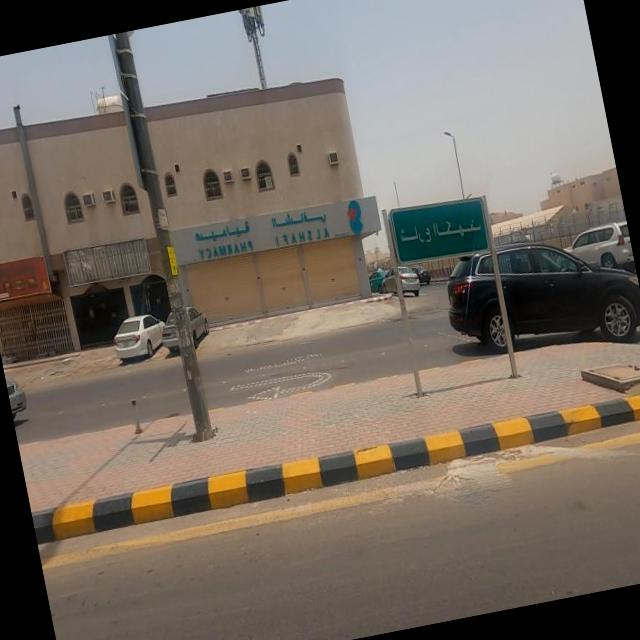debris: (24, 182, 205, 344), (0, 204, 98, 353)
